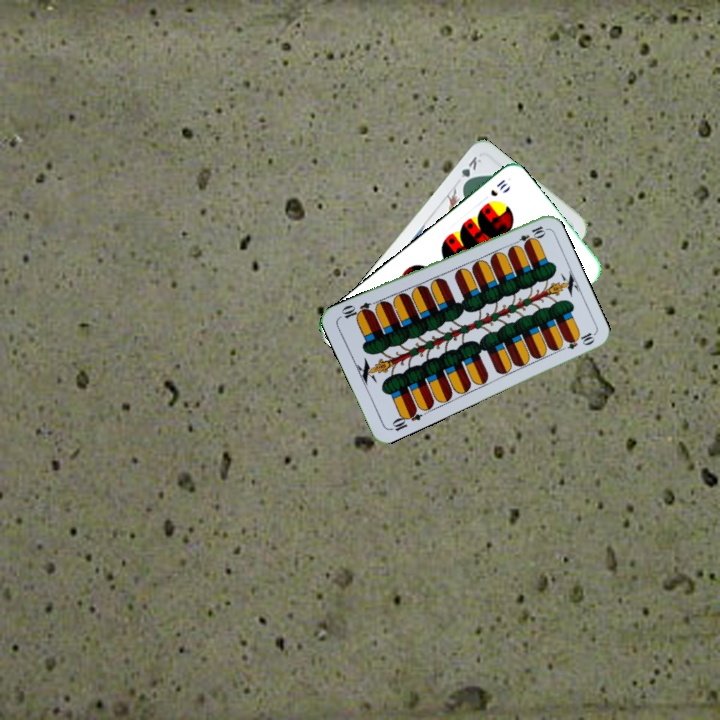E10: (386, 404, 424, 434), (509, 222, 548, 249)
GK: (456, 152, 484, 189)
S10: (486, 175, 510, 199)
